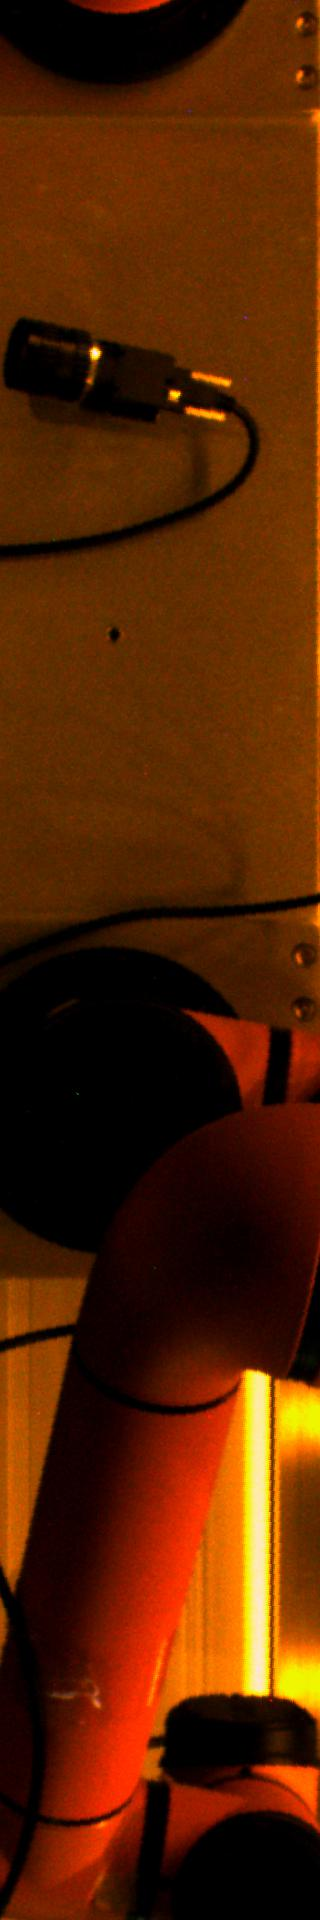keyPoint_2: (98, 621, 128, 651)
